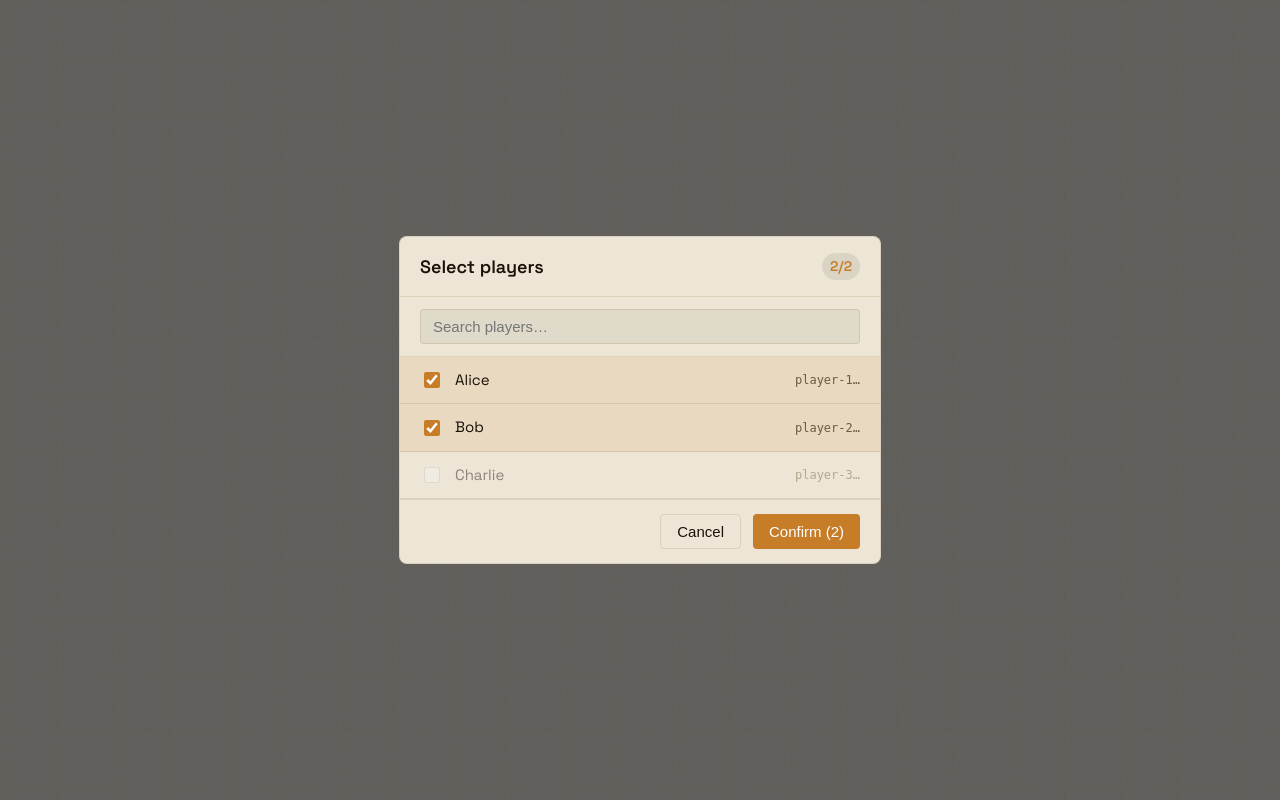
PlayerSelectModal › checkboxes are re-enabled after deselecting a player below max
// Deselect Alice to go back under the limit
Click the checkbox named "Select Alice": (432, 380) 424,372 -> 440,388
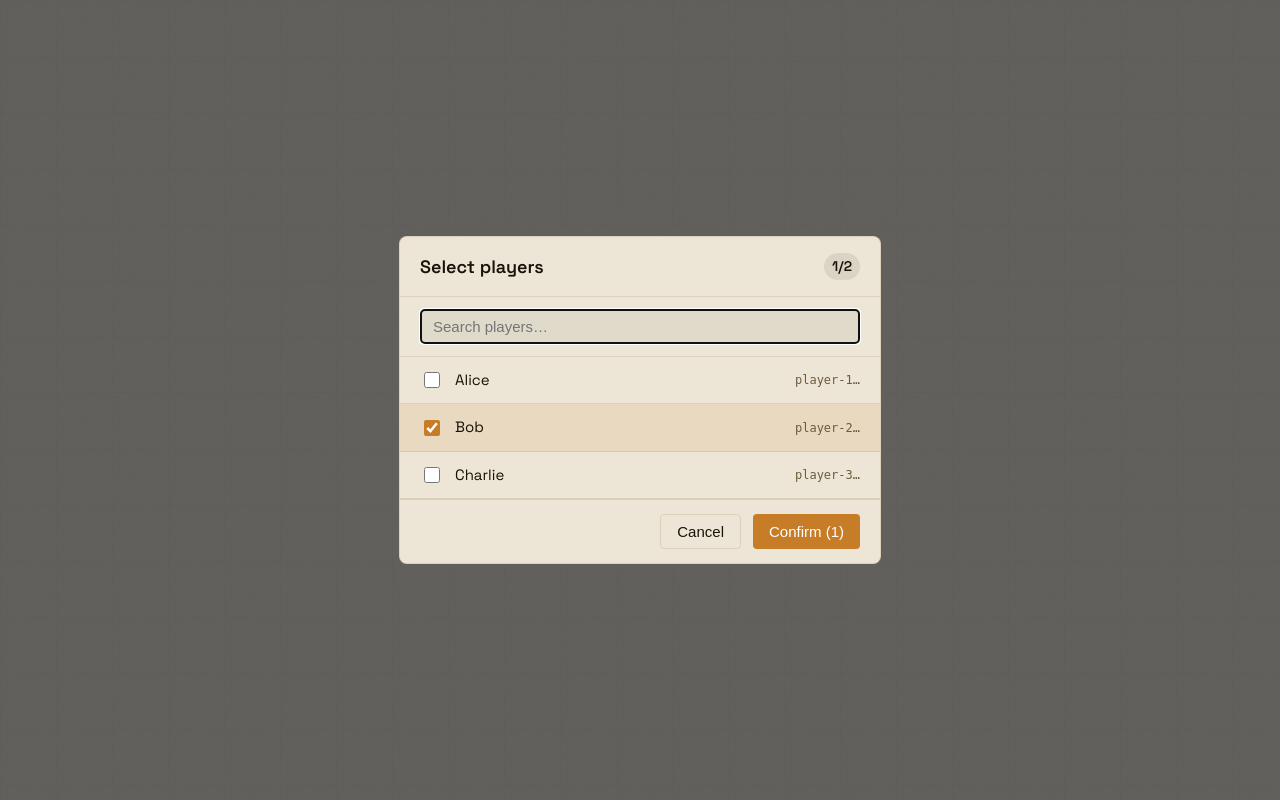
Check: the checkbox named "Select Charlie" is enabled, box 424,467 -> 440,483
